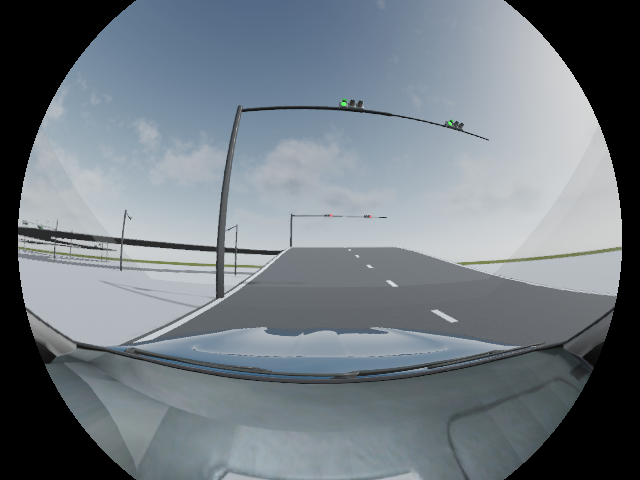Green Light: (339, 99, 366, 111), (446, 120, 464, 130)
